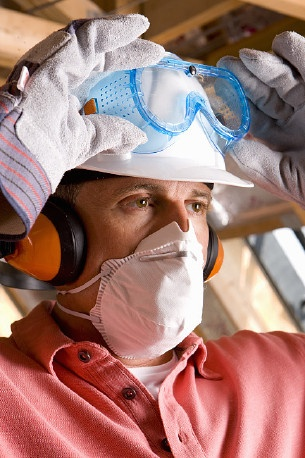Mask: (55, 169, 241, 354)
